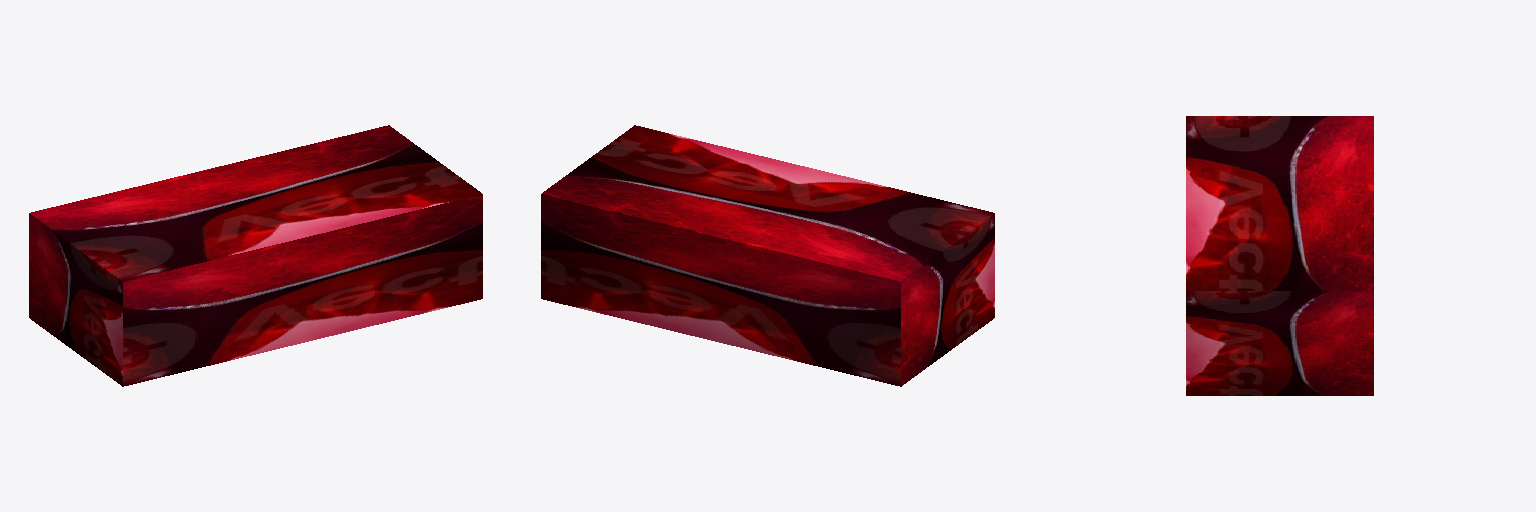
3 renders of one model, left to right at view 1: azimuth 30°, elevation 25°; view 2: azimuth 150°, elevation 25°; view 3: azimuth 270°, elevation 25°, orthographic.
Parts seen in each view (by area): view 1: Ruby.009; view 2: Ruby.009; view 3: Ruby.009.
Boxes of the visible parts, box(x1,y1,x2,y2) form: Ruby.009: box(29, 125, 482, 386); Ruby.009: box(541, 125, 994, 386); Ruby.009: box(1186, 116, 1373, 395).
Size of the model in its own units: 0.3846 by 0.1071 by 0.1741.
Materials: 1 (1 with a texture image).